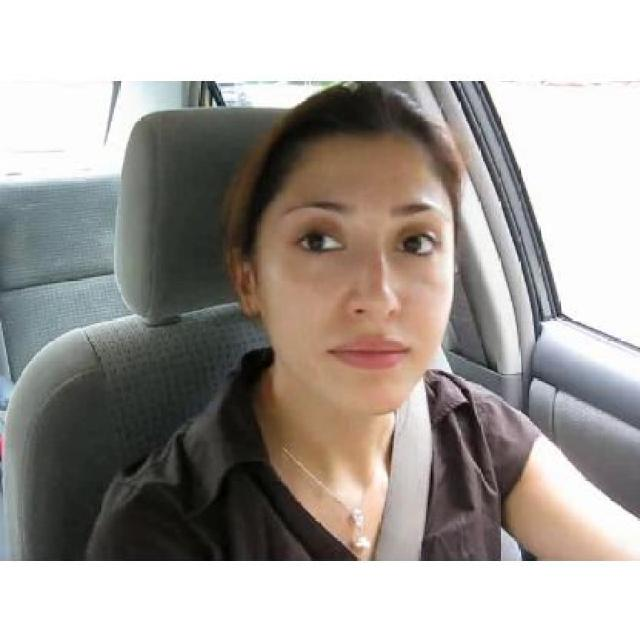attentif: (222, 84, 452, 413)
